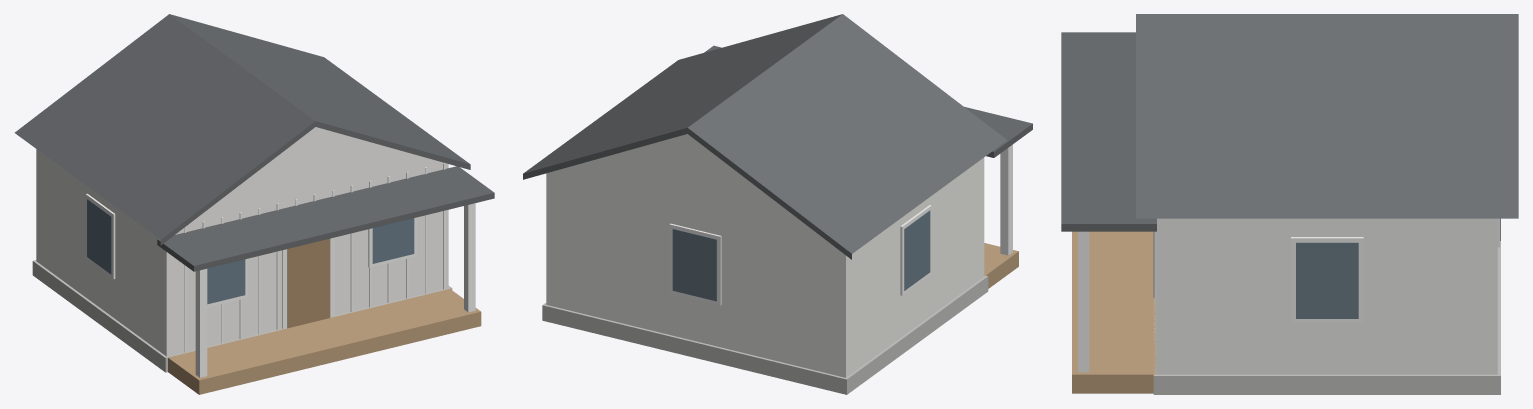
Rendered from studio-farmhouse.glb.
3 views of the same model, side by side, from view 1: azimuth 30°, elevation 25°; view 2: azimuth 150°, elevation 25°; view 3: azimuth 270°, elevation 25° (orthographic). The views are drawn at different scales.
Parts seen in each view (by area): view 1: The Lathrop (farmhouse); view 2: The Lathrop (farmhouse); view 3: The Lathrop (farmhouse).
Part boxes in pixels (left/top/right/bottom): The Lathrop (farmhouse): left=14, top=14, right=494, bottom=394; The Lathrop (farmhouse): left=523, top=14, right=1032, bottom=394; The Lathrop (farmhouse): left=1061, top=14, right=1518, bottom=394.
Size of the model in its own units: 6.7 by 4.57 by 6.55.
